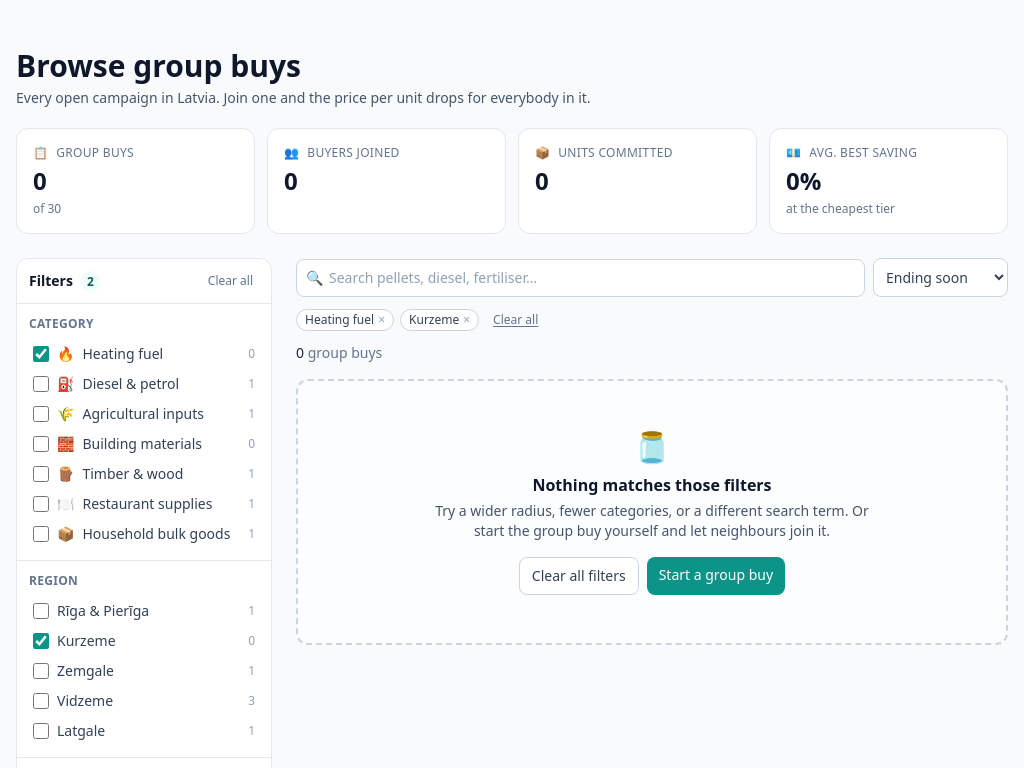
Scenario: CampaignsPage › removes one filter at a time from its chip
What coordinates should you click on to do the following:
click the button "Kurzeme ×"
I would click on:
 (440, 320)
Its box is [400,309,479,331].
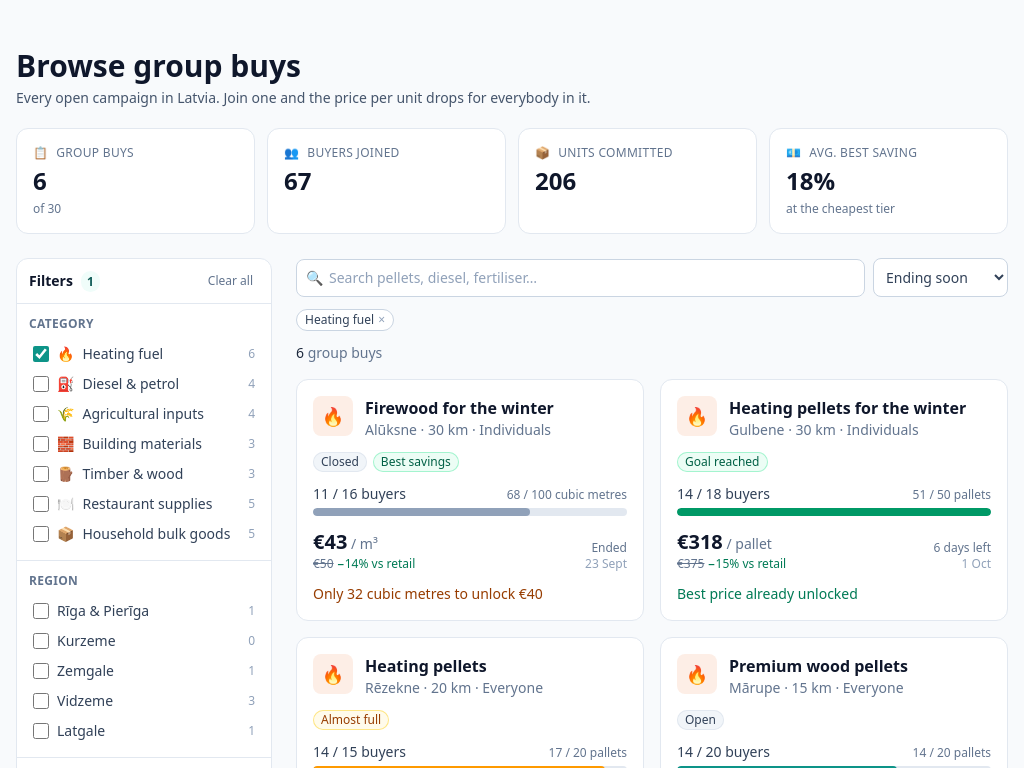
Check: the checkbox labelled "🔥 Heating fuel 6" is checked, box [33,346,49,362]
Check: the checkbox labelled "Kurzeme 0" is not checked, box [33,633,49,649]
